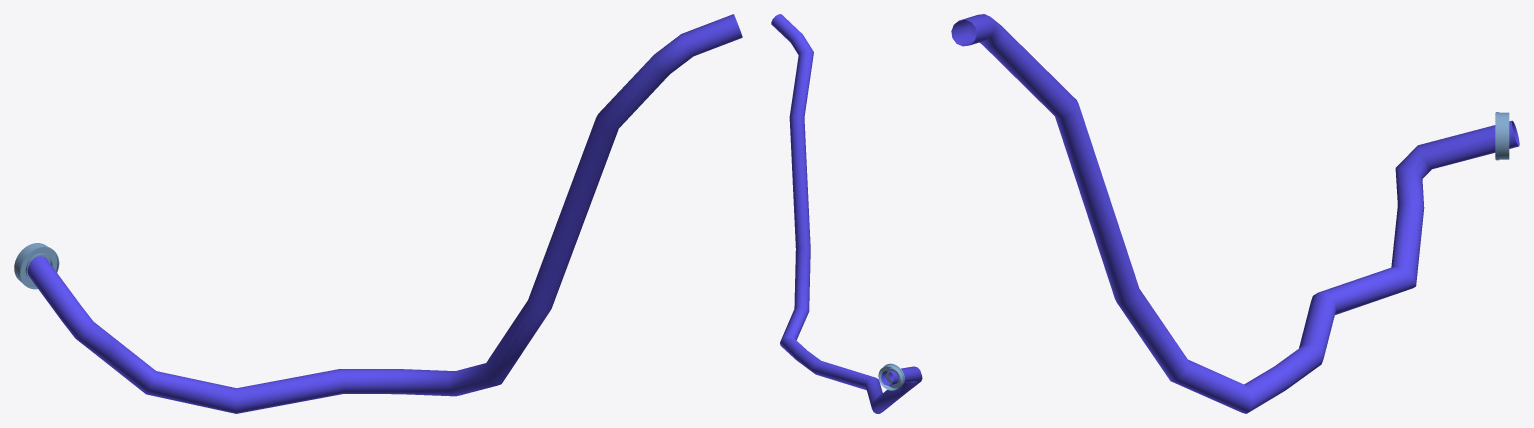
Rendered from pipe_control_panel_V3.FBX.
3 renders of one model, left to right at view 1: azimuth 30°, elevation 25°; view 2: azimuth 150°, elevation 25°; view 3: azimuth 270°, elevation 25°, orthographic. The views are drawn at different scales.
Visible parts, largest first — view 1: control_panel_wire; view 2: control_panel_wire; view 3: control_panel_wire.
Boxes of the visible parts, x1,y1,x2,y2 form: control_panel_wire: (14,14,742,413); control_panel_wire: (771,14,922,413); control_panel_wire: (951,14,1519,413).
Bounding box in the file's own units: 1239 × 1102 × 1212.
